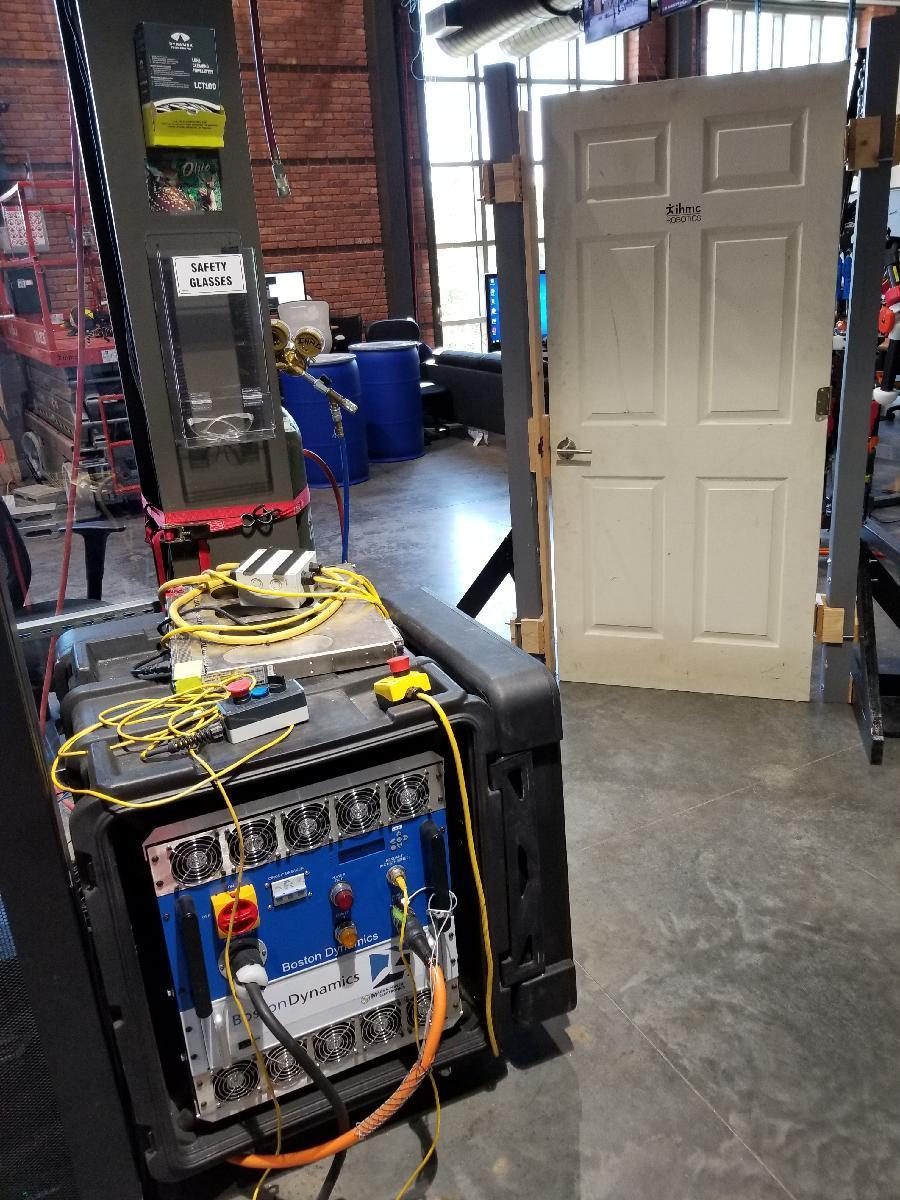door: (546, 88, 819, 697)
handle: (556, 436, 592, 462)
